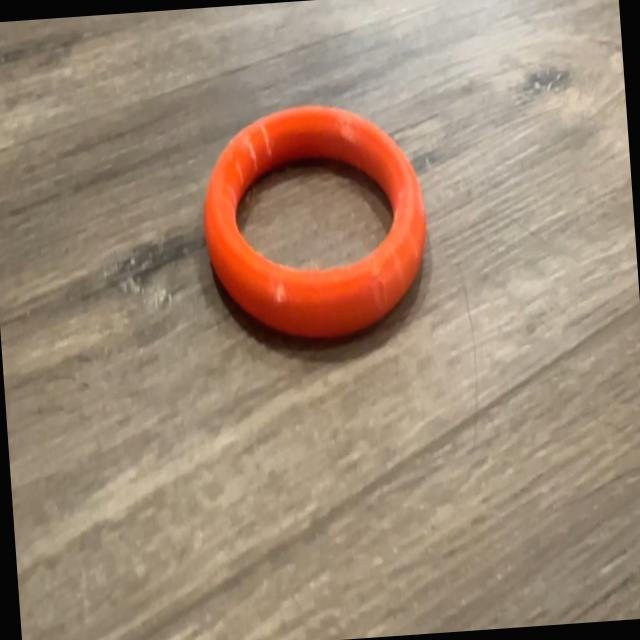note: (196, 96, 436, 354)
